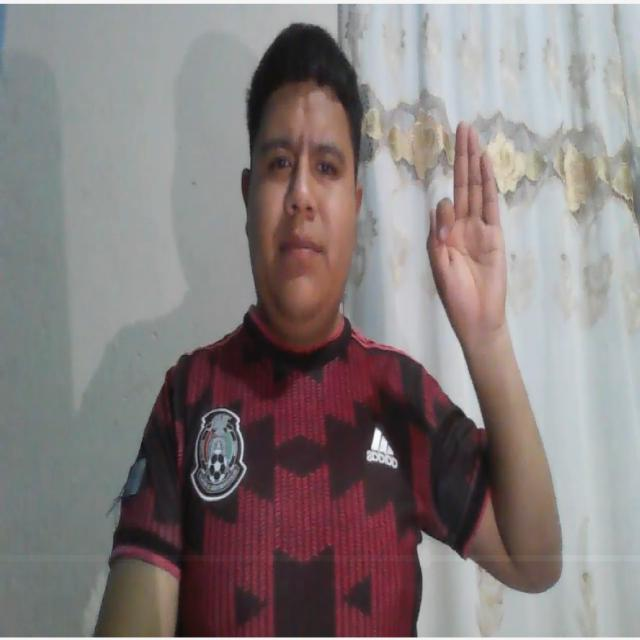F: (418, 107, 514, 335)
